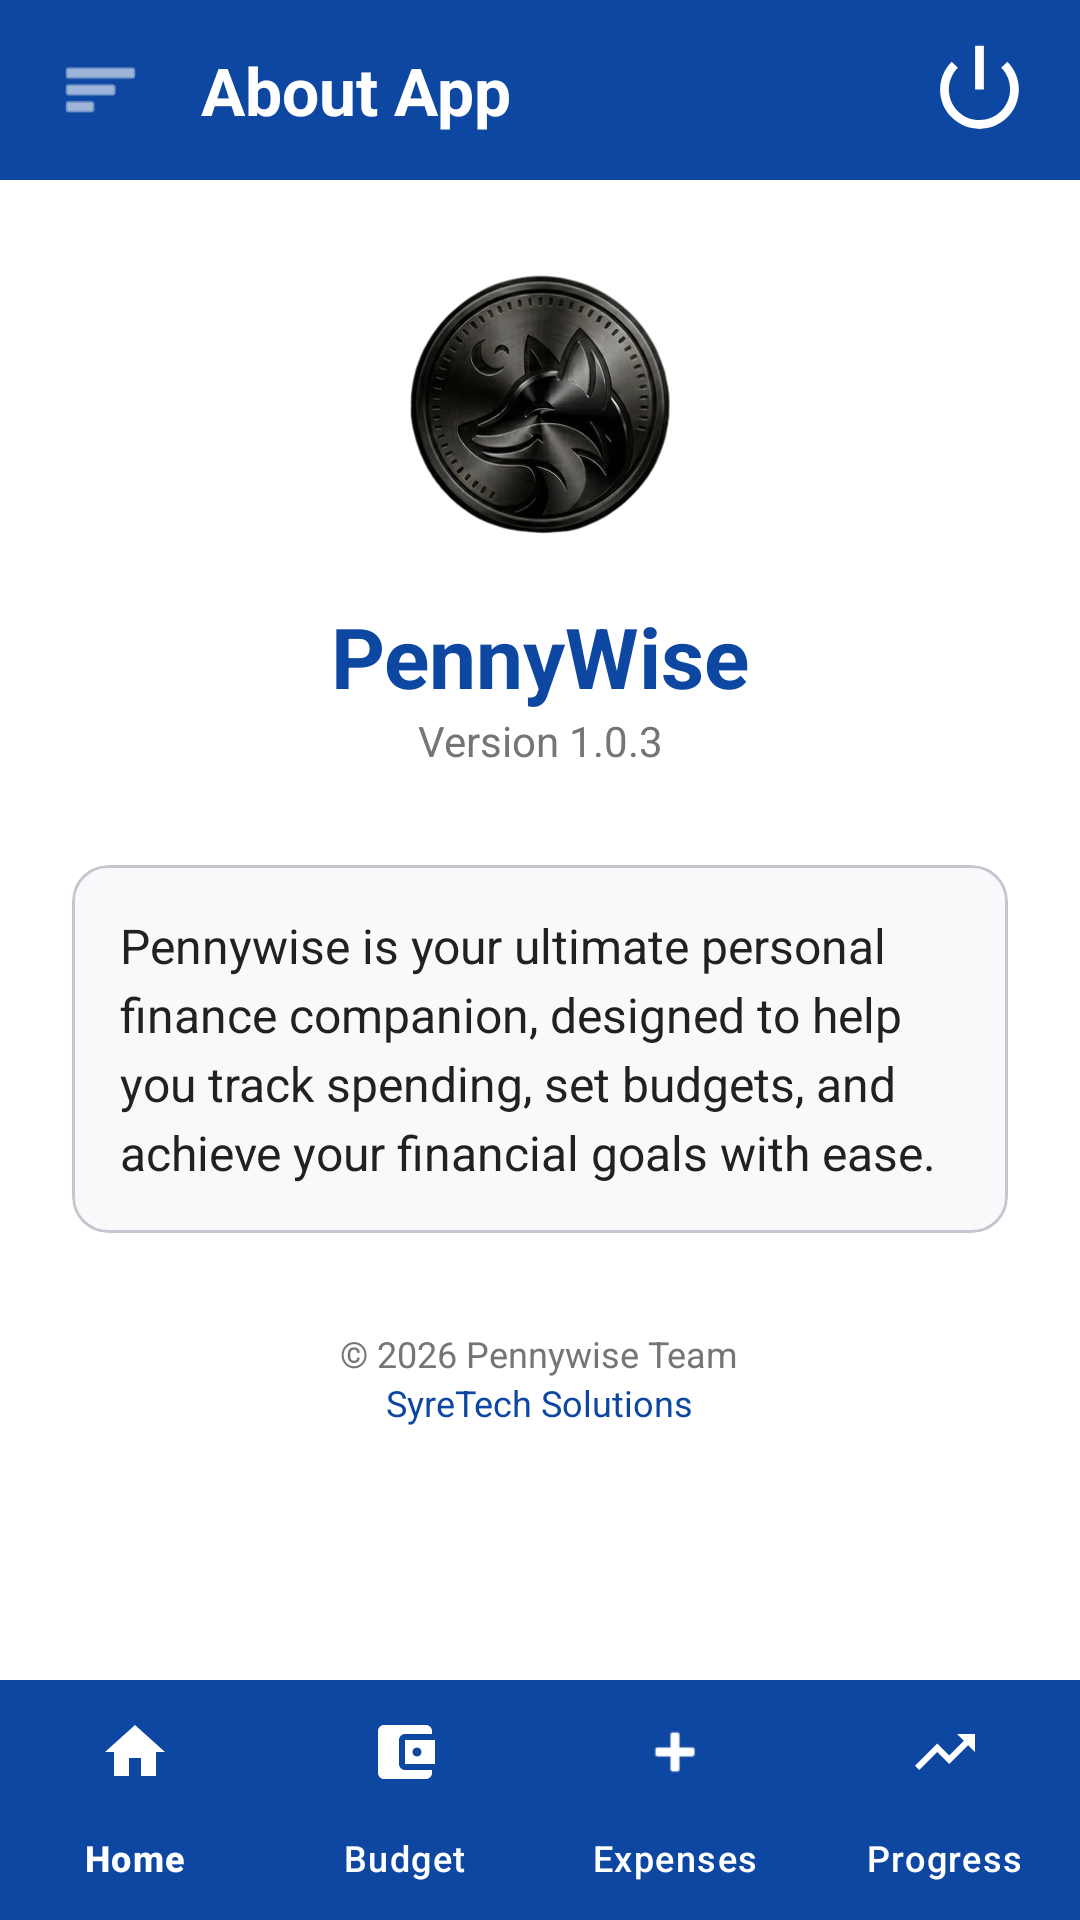

Icon bounding boxes for this 1080 × 1920 phone screenshot, format (x1, y1, x2, y2):
Menu: (66, 67, 135, 113)
